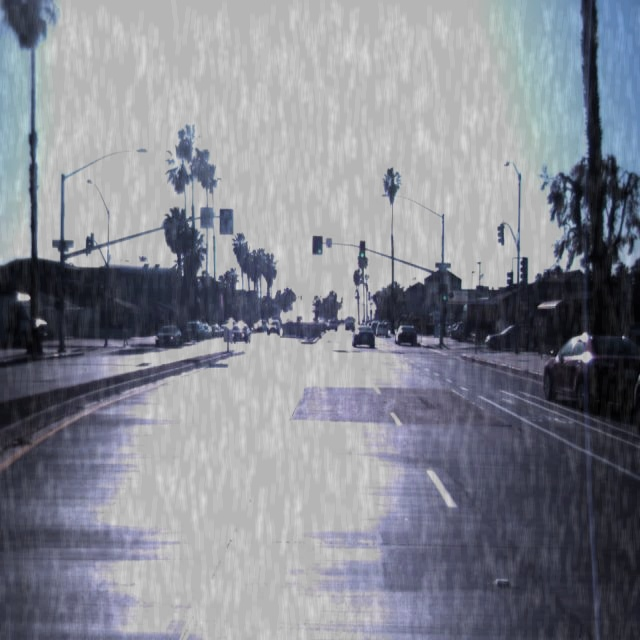go: (315, 236, 324, 256), (358, 240, 367, 260), (98, 273, 106, 290), (441, 284, 449, 301)
go traffic light: (315, 236, 324, 256), (358, 240, 367, 260), (98, 273, 106, 290), (441, 284, 449, 301)
